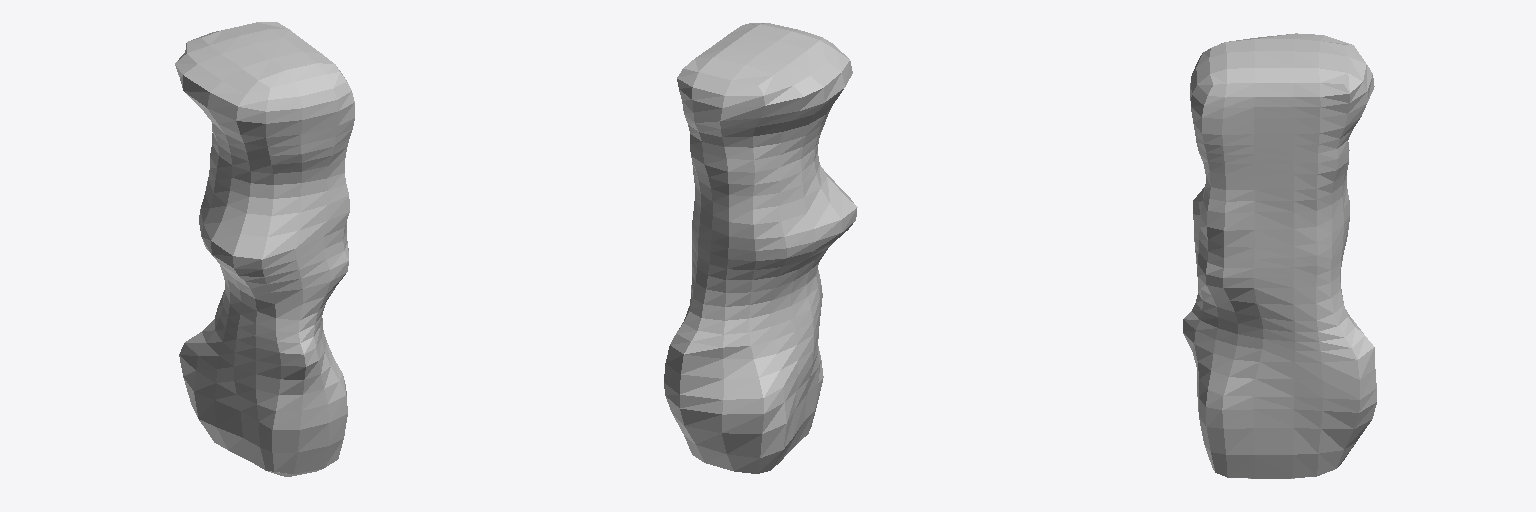
The model's file is PM3D_rock016_001.OBJ.
The picture shows the model from 3 angles: view 1: azimuth 30°, elevation 25°; view 2: azimuth 150°, elevation 25°; view 3: azimuth 270°, elevation 25°; orthographic projection.
Visible parts, largest first — view 1: Group38634; view 2: Group38634; view 3: Group38634.
Part boxes in pixels (x1,y1,x2,y2): Group38634: (175,22,354,476); Group38634: (664,23,857,473); Group38634: (1183,33,1376,478).
Bounding box in the file's own units: 1287 × 3920 × 1679.